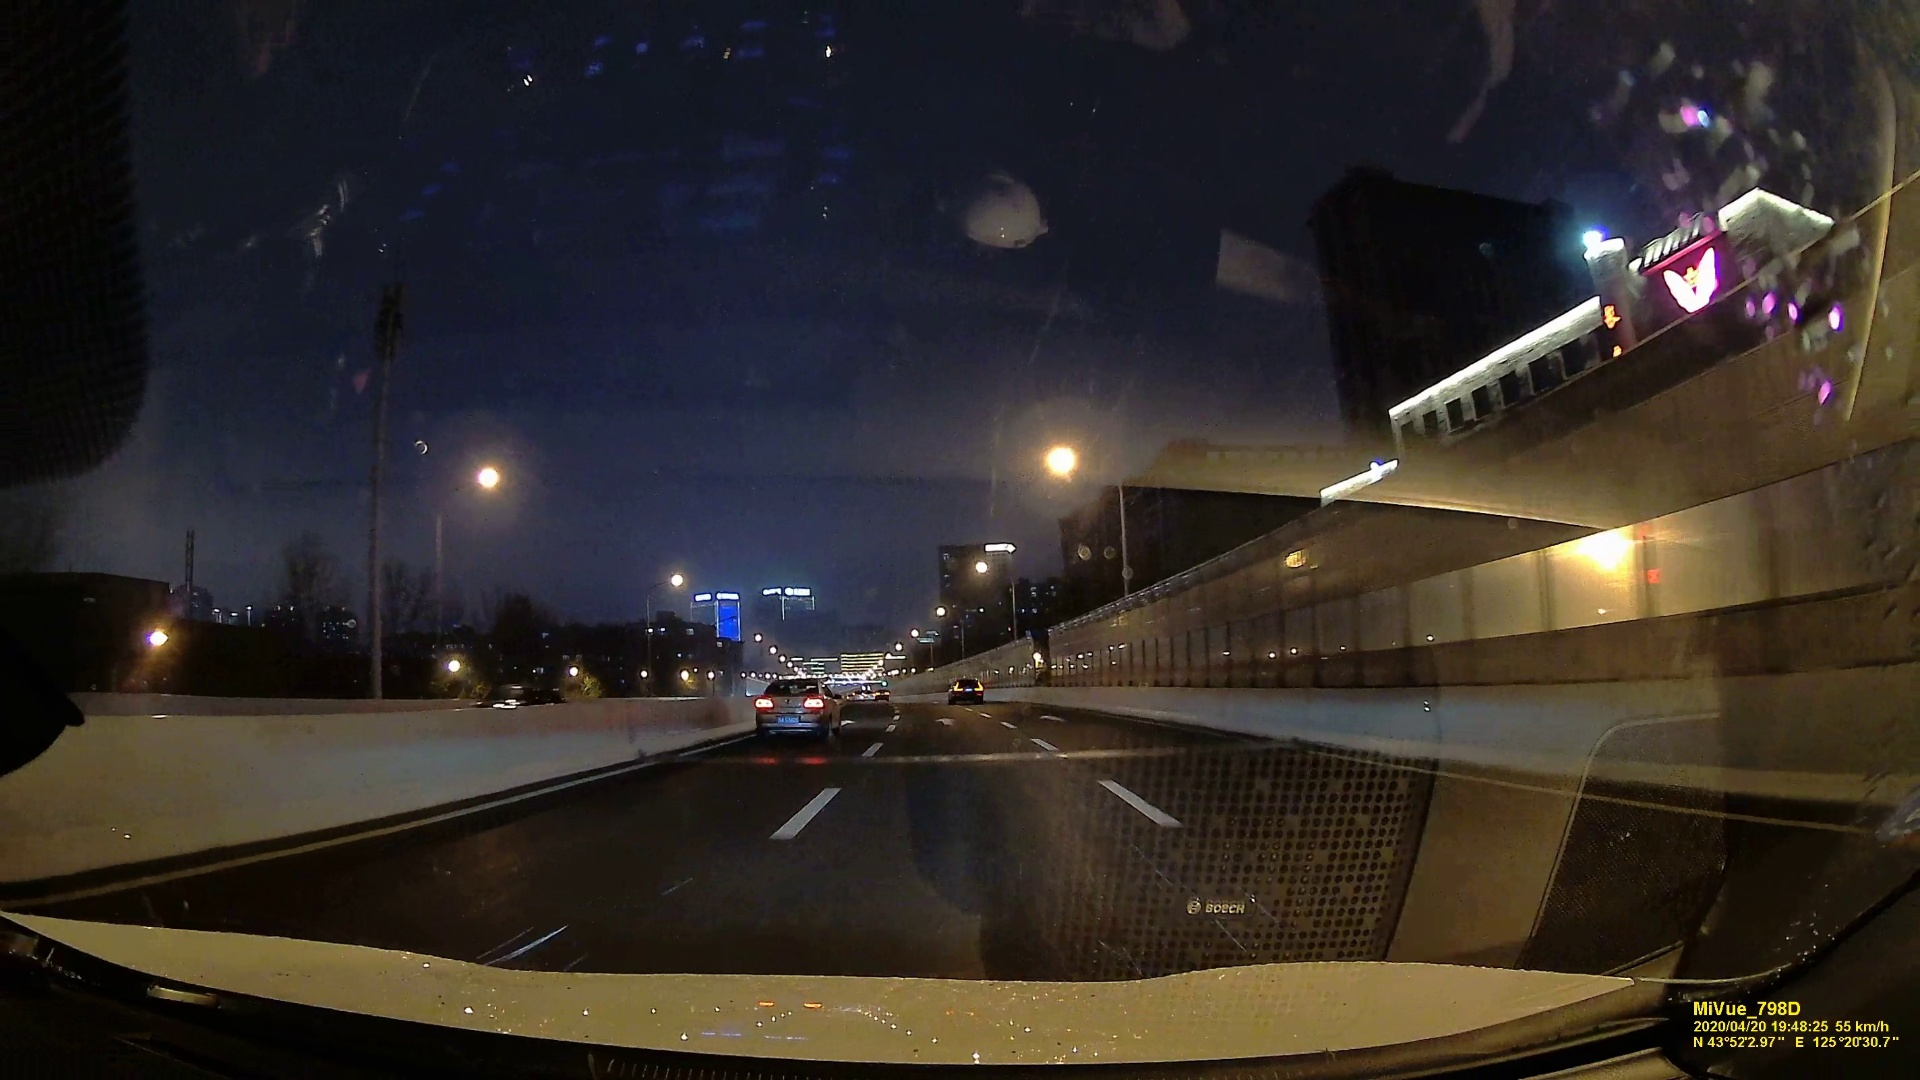vehicle: (753, 679, 839, 740), (945, 678, 982, 705)
